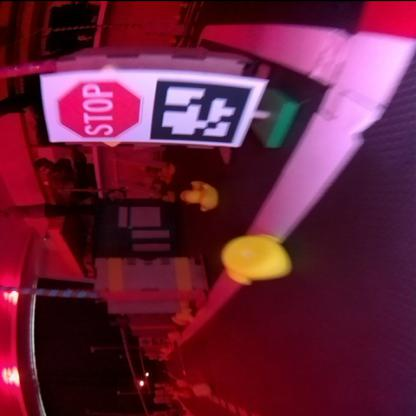Duckie: (219, 234, 292, 284), (184, 182, 216, 210), (194, 385, 210, 396)
QR code: (152, 80, 250, 142)
Stop sign: (57, 80, 143, 138)
